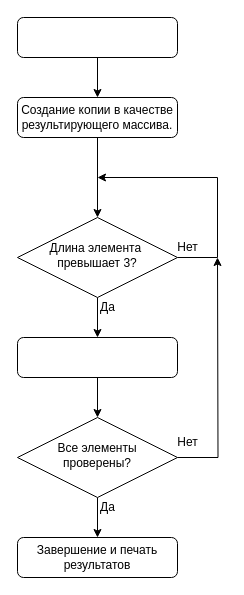
Some shapes in this 244 by 595 pixel diagram are drawn without their labels. Here are the shapes that lost their labels. From the top down, the centre of each, then its label:
(97,37): Создание массива строк случайной длины.
(97,357): Удалянеие элемента из выходного массива
